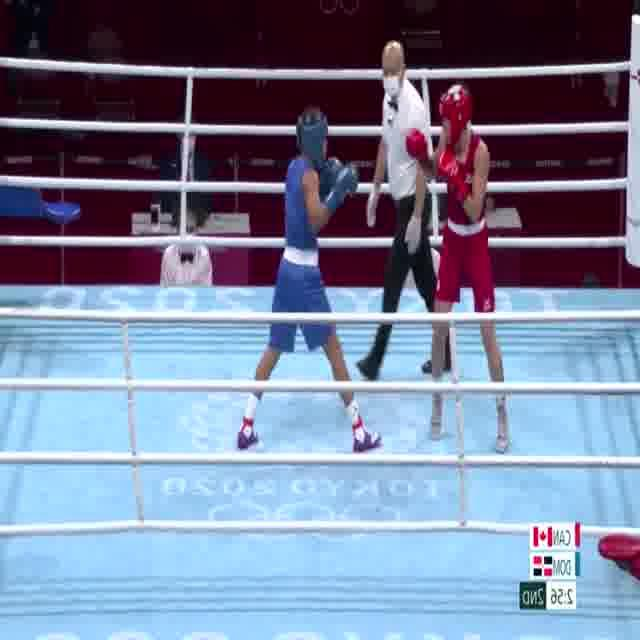blue-player: (235, 104, 386, 458)
red-player: (404, 79, 514, 455)
referee: (353, 38, 455, 382)
